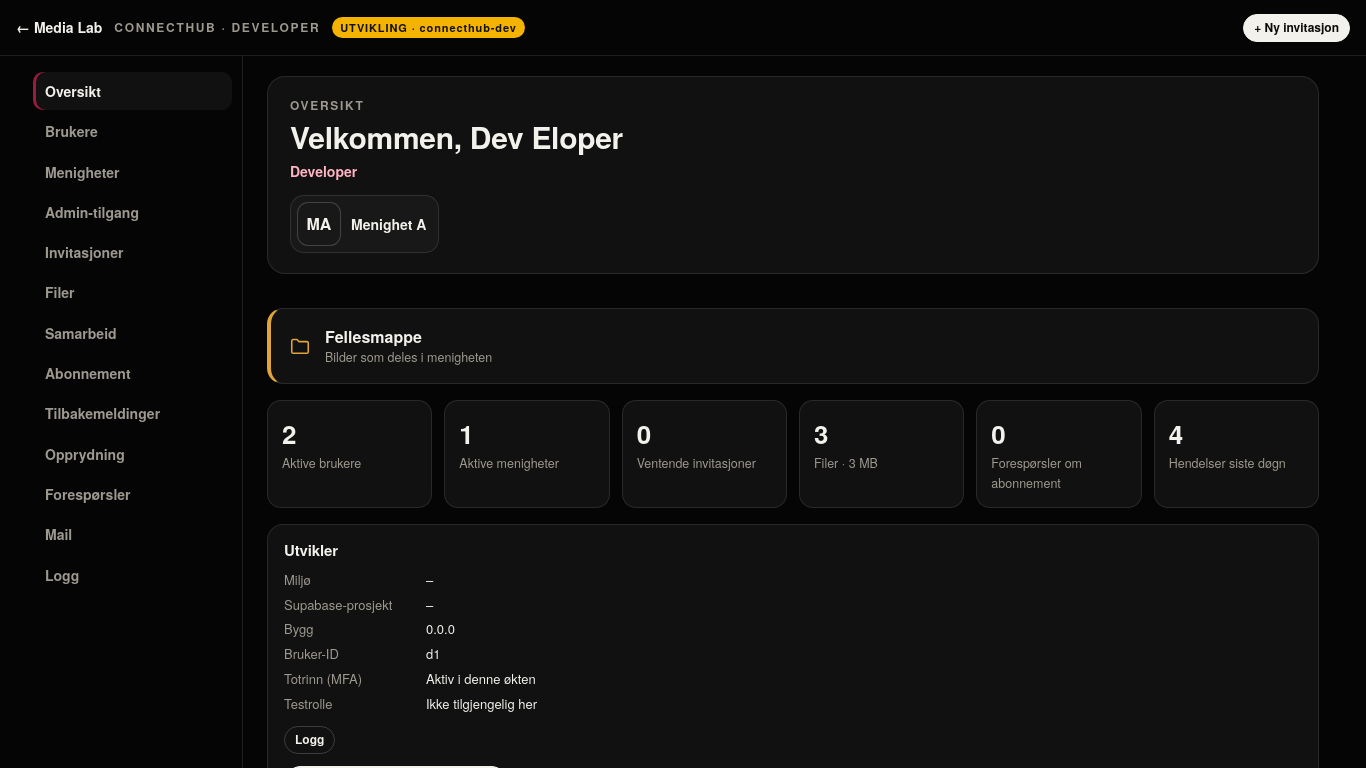
Brukere og invitasjon (ADM-02, ADM-05) › «Ny invitasjon»: Developer kan invitere alle roller; sendes via serveren
The width and height of the screenshot is (1366, 768).
Expected: the text "Hendelser siste døgn" is shown, [1169,454,1286,472]
Click the button "+ Ny invitasjon".
click(1297, 28)  # box [1243,14,1350,42]
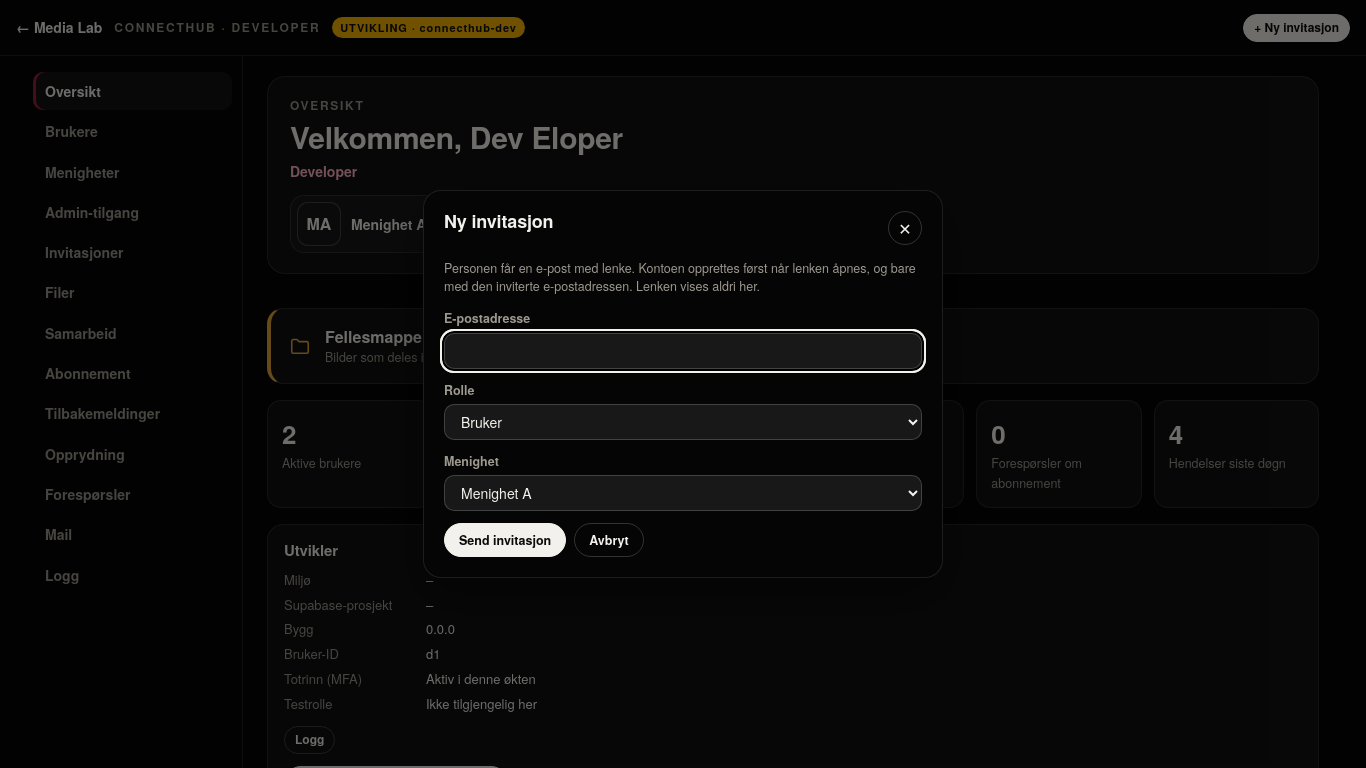
Type "ny@b.no" into the field labelled "E-postadresse".
click(683, 351); type("ny@b.no")  # box [444,333,922,369]
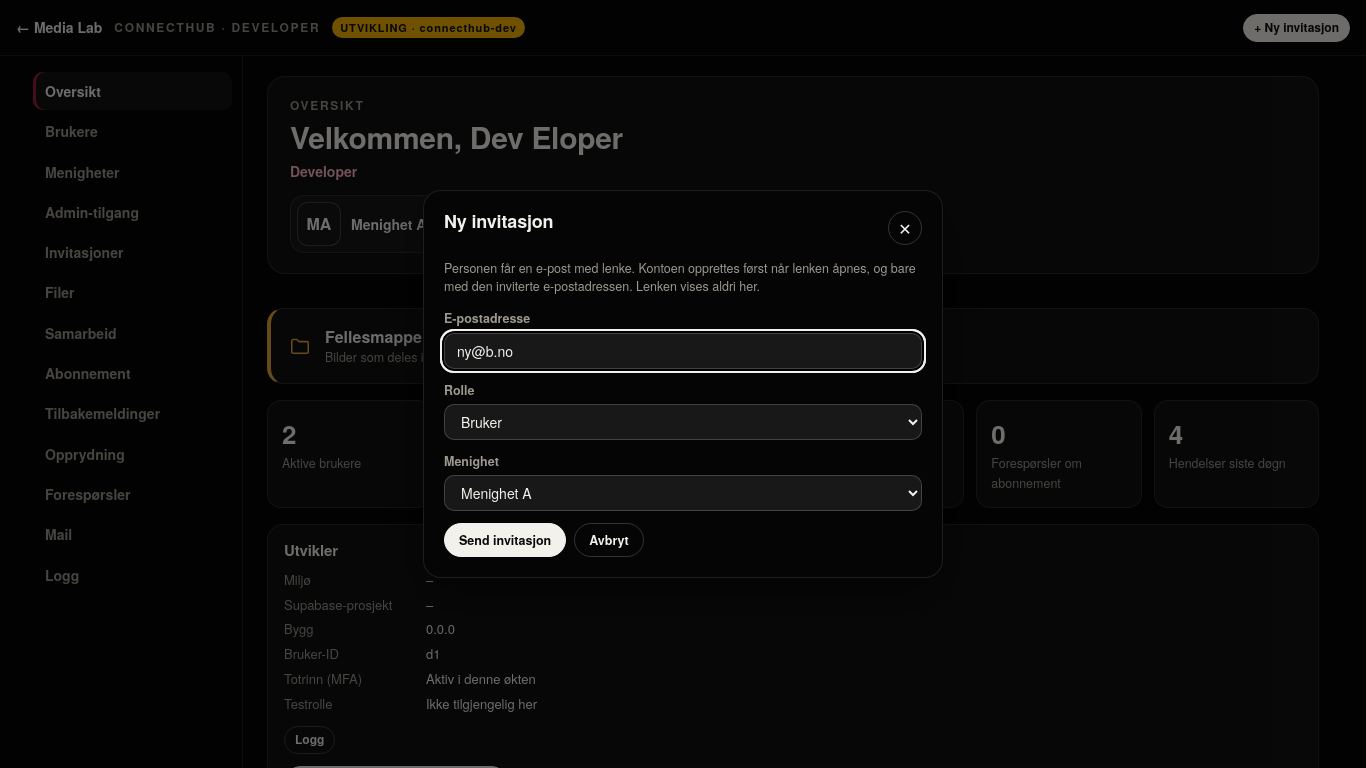
Click the button "Send invitasjon".
click(505, 540)  # box [444,523,566,557]
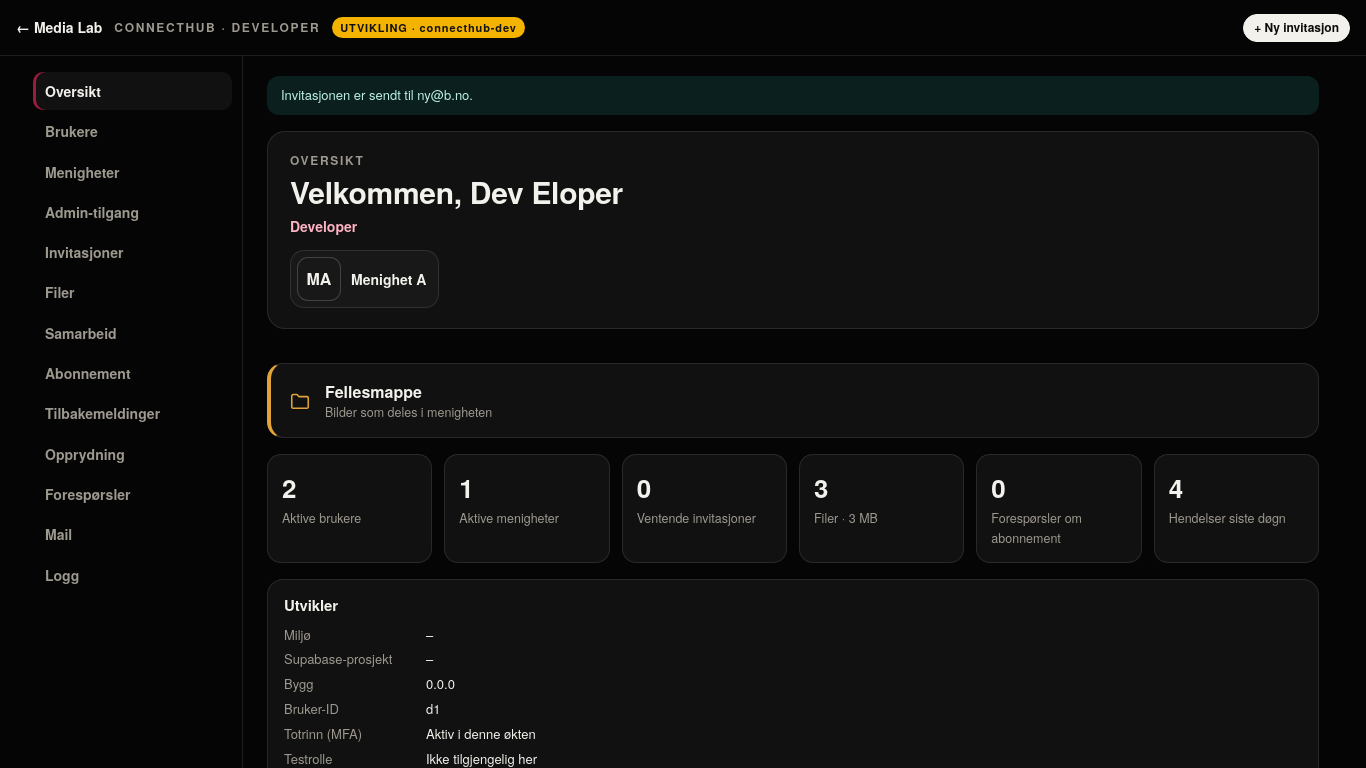
Expected: the message reads "Invitasjonen er sendt til ny@b.no.", [281,85,473,104]
